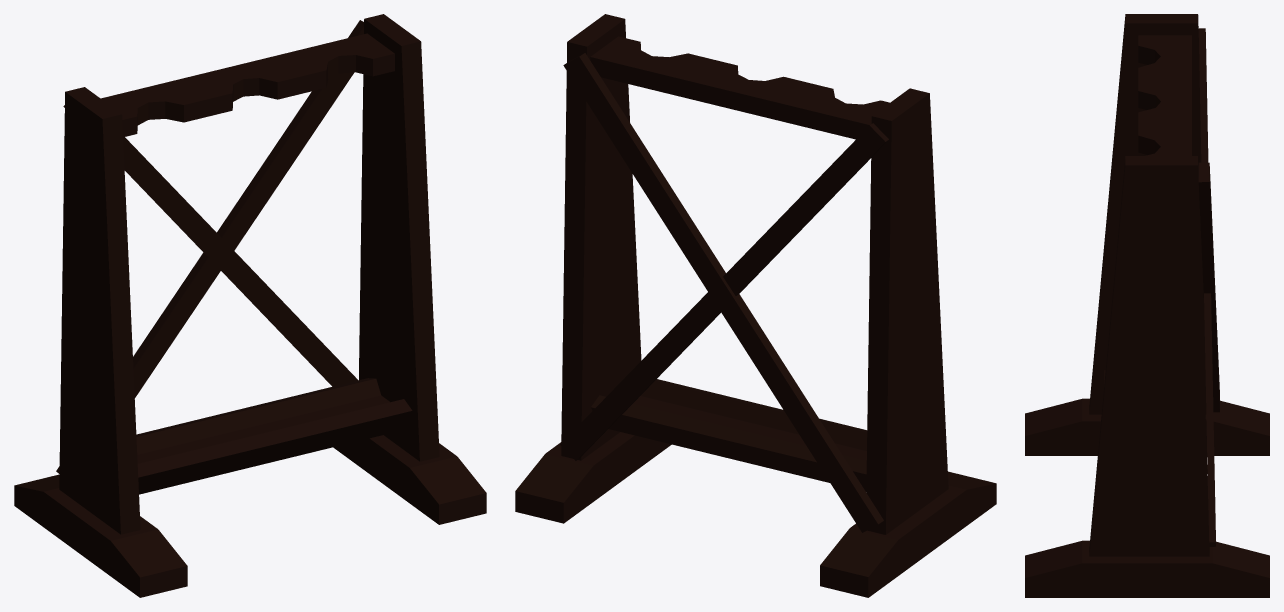
The model's file is rackLarge.obj.
3 renders of one model, left to right at view 1: azimuth 30°, elevation 25°; view 2: azimuth 150°, elevation 25°; view 3: azimuth 270°, elevation 25°, orthographic. The views are drawn at different scales.
Visible parts, largest first — view 1: WeaponRack_Big_Cube.940; view 2: WeaponRack_Big_Cube.940; view 3: WeaponRack_Big_Cube.940.
Boxes of the visible parts, bbox=[...] form: WeaponRack_Big_Cube.940: bbox=[14, 14, 486, 597]; WeaponRack_Big_Cube.940: bbox=[515, 14, 996, 597]; WeaponRack_Big_Cube.940: bbox=[1025, 14, 1269, 597].
Size of the model in its own units: 1.16 by 1.4 by 0.7286.
